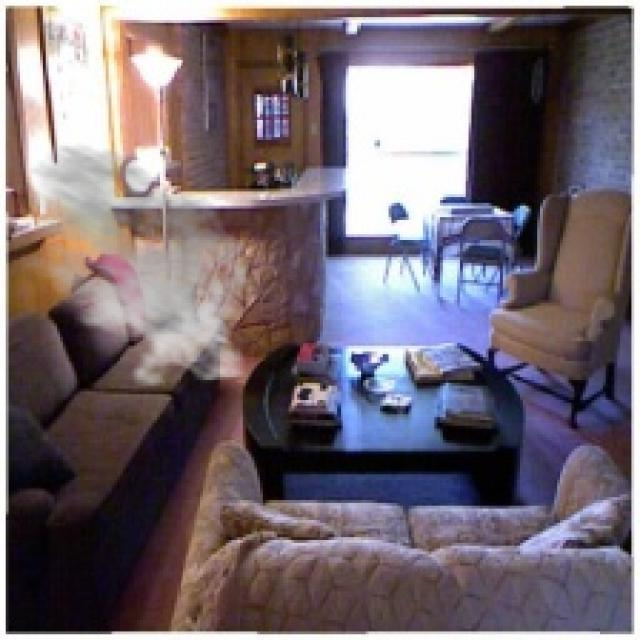Smoke: (8, 142, 260, 388)
